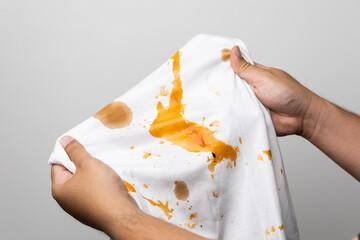gun: (144, 100, 242, 172), (95, 102, 137, 135), (140, 192, 175, 221), (171, 54, 186, 103), (169, 178, 193, 204), (261, 222, 287, 234), (260, 147, 277, 161), (186, 213, 199, 230), (123, 175, 133, 194), (209, 186, 218, 198), (128, 141, 136, 153), (217, 208, 224, 219), (140, 180, 151, 186)
